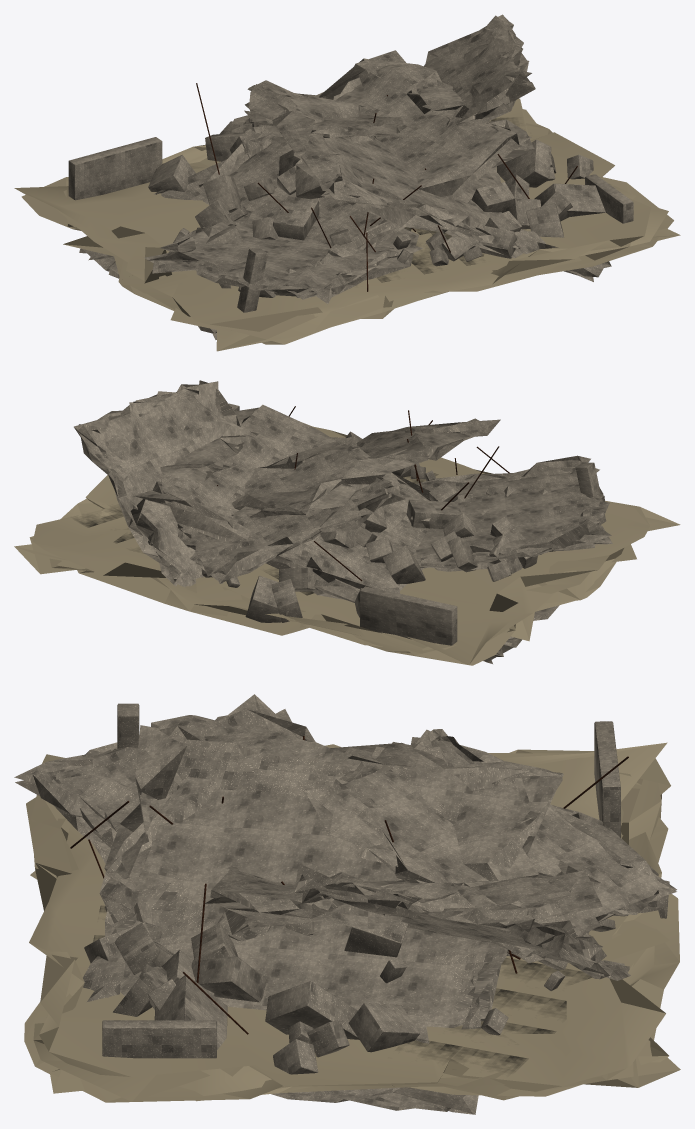
Rendered from fac_ruin.glb.
3 renders of one model, top to bottom at view 1: azimuth 30°, elevation 25°; view 2: azimuth 150°, elevation 25°; view 3: azimuth 270°, elevation 25°, orthographic. The views are drawn at different scales.
Visible parts, largest first — view 1: fac_ruin; view 2: fac_ruin; view 3: fac_ruin.
Part boxes in pixels (x1,y1,x2,y2): fac_ruin: [14, 14, 680, 351]; fac_ruin: [14, 380, 680, 665]; fac_ruin: [14, 694, 680, 1114].
Bounding box in the file's own units: 15.97 × 4.72 × 12.8.
Materials: 4 (3 with a texture image).
